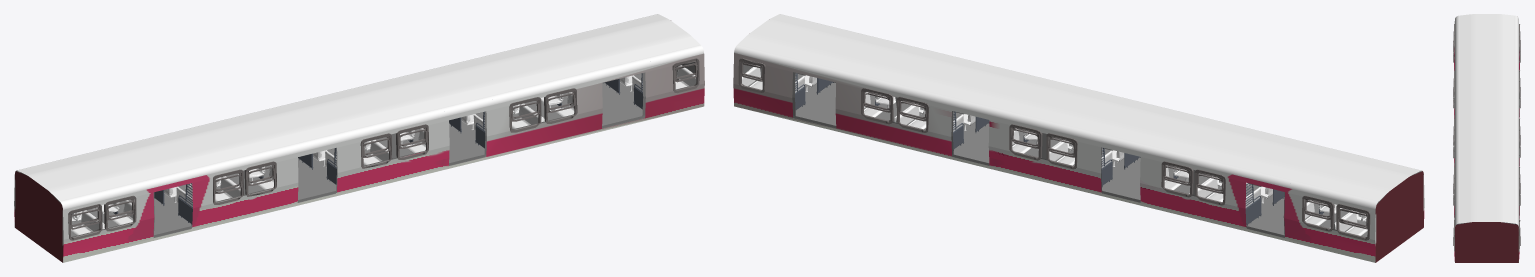
Rendered from emu-coach.glb.
The picture shows the model from 3 angles, left to right: view 1: azimuth 30°, elevation 25°; view 2: azimuth 150°, elevation 25°; view 3: azimuth 270°, elevation 25°; orthographic projection. The views are drawn at different scales.
Visible parts, largest first — view 1: Mumbai loacl coach.001, Cylinder.005; view 2: Mumbai loacl coach.001, Cylinder.005; view 3: Mumbai loacl coach.001.
Part boxes in pixels (left/top/right/bottom): Mumbai loacl coach.001: left=14, top=14, right=704, bottom=262; Cylinder.005: left=71, top=65, right=696, bottom=235; Mumbai loacl coach.001: left=733, top=14, right=1424, bottom=262; Cylinder.005: left=742, top=65, right=1367, bottom=235; Mumbai loacl coach.001: left=1453, top=14, right=1520, bottom=262.
Bounding box in the file's own units: 32.29 × 2.96 × 4.41.
7 materials, 1 textured.
